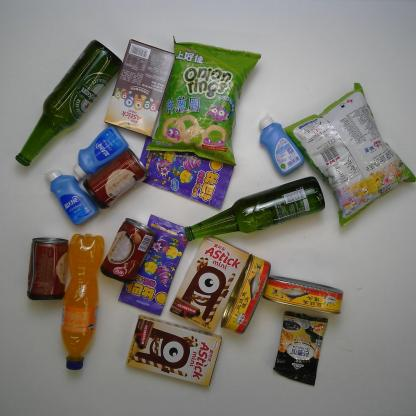Alcohol: (14, 39, 123, 168), (184, 176, 326, 242)
Candy: (138, 134, 235, 209), (118, 214, 188, 316)
Canned Food: (219, 253, 272, 335), (83, 148, 149, 211), (99, 217, 158, 284), (262, 274, 344, 315), (26, 236, 70, 301)
Dessert: (168, 235, 251, 332), (126, 313, 224, 388), (104, 38, 176, 139)
Drink: (59, 233, 105, 371)
Instant Drink: (272, 310, 328, 386)
Personal Hygiene: (72, 124, 129, 183), (44, 168, 100, 227), (258, 112, 305, 177)
Puffed Food: (282, 82, 416, 229), (144, 35, 263, 168)
